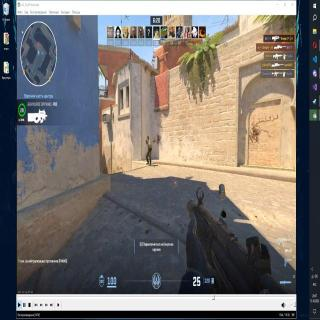T-Body: (143, 134, 155, 168)
T-Head: (145, 134, 151, 142)
